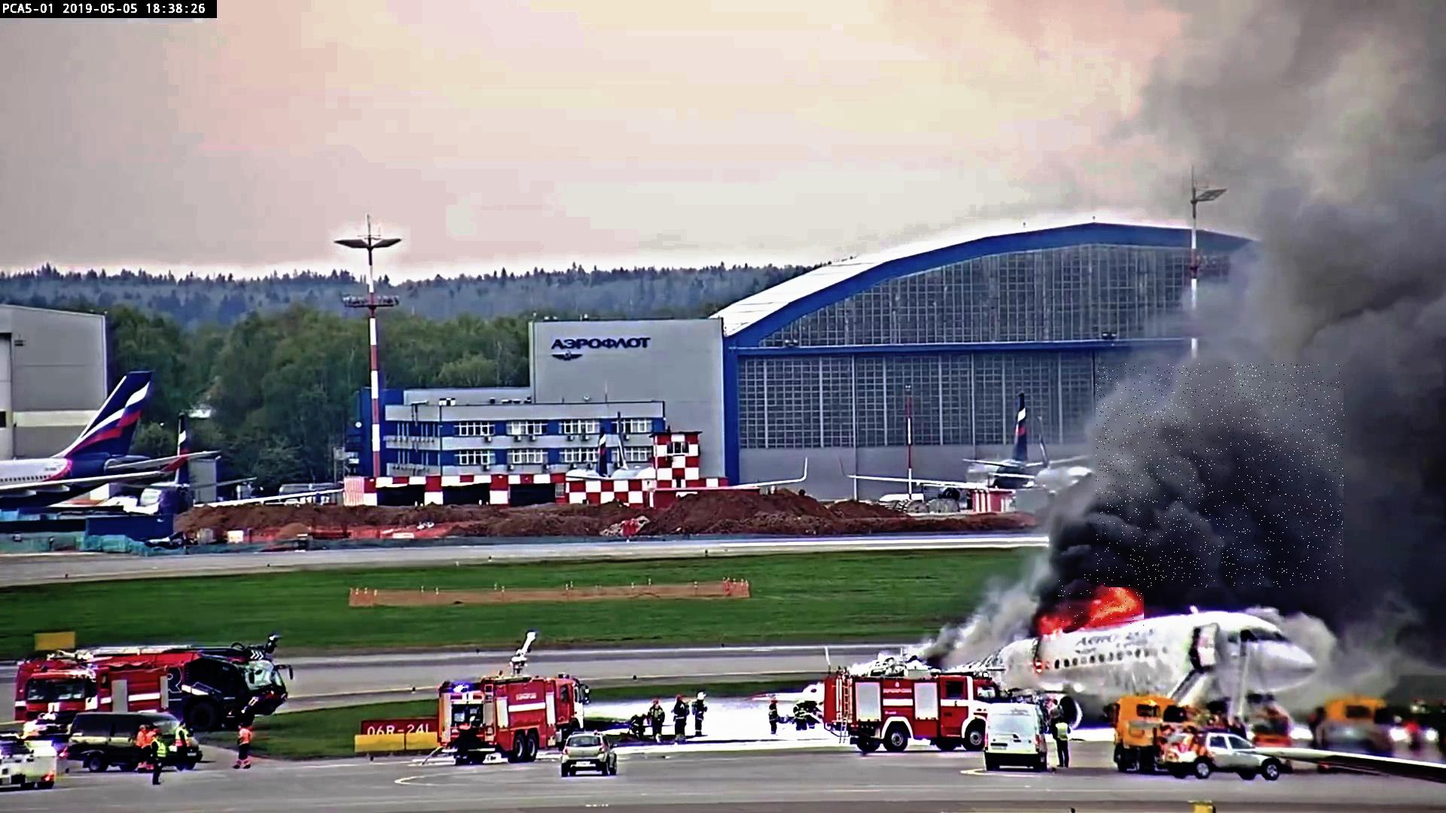fire: (1058, 574, 1144, 626)
smoke: (1096, 364, 1346, 587)
